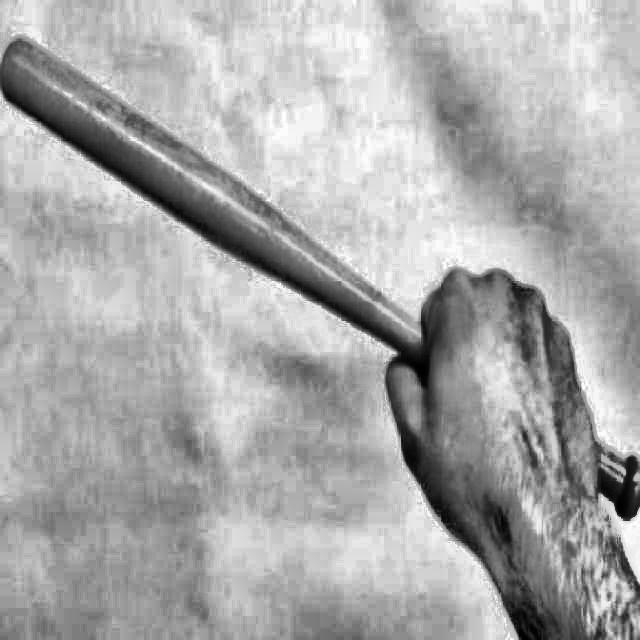tongkat pemukul: (0, 33, 636, 521)
